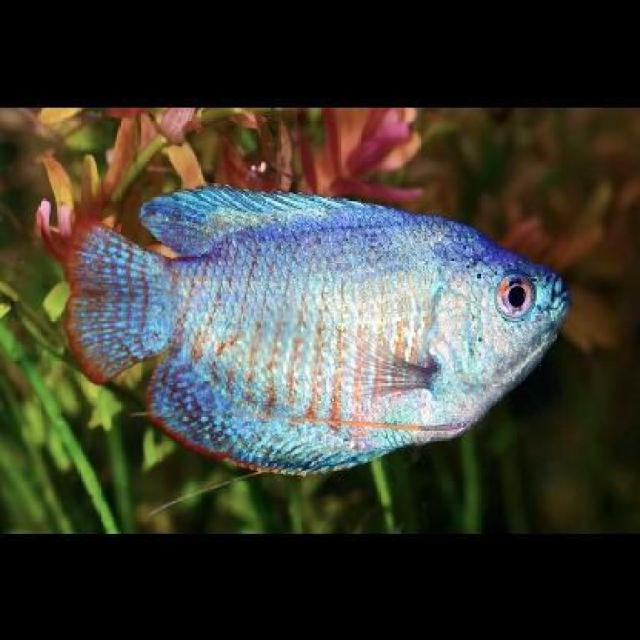Gourami: (66, 182, 572, 473)
